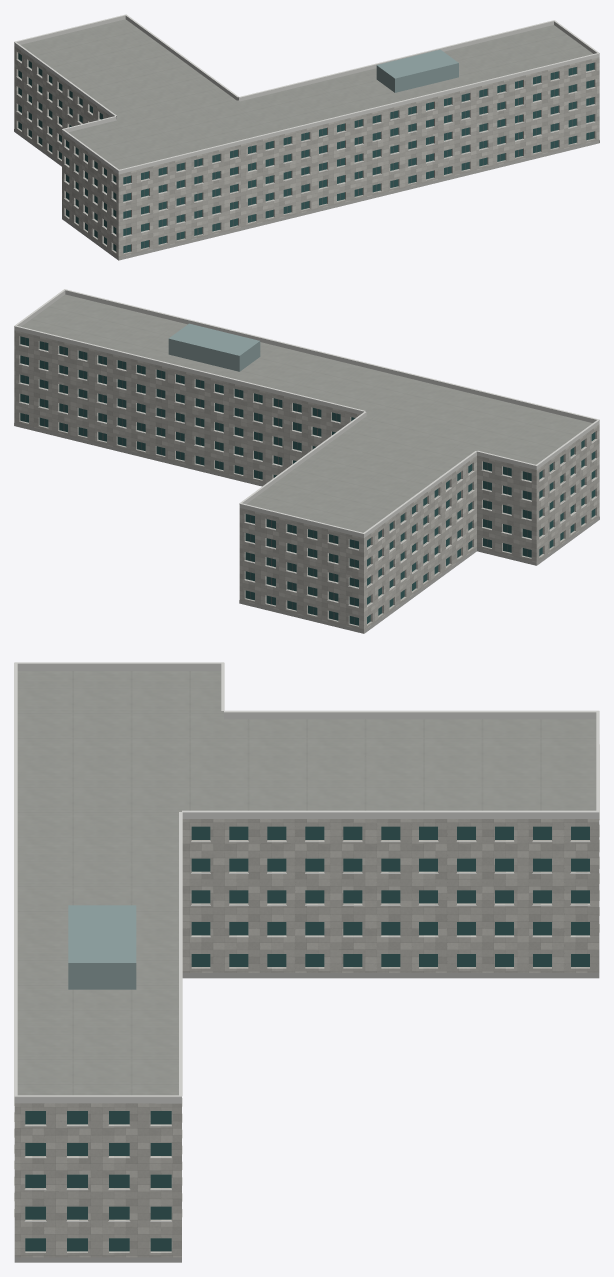
3 renders of one model, top to bottom at view 1: azimuth 30°, elevation 25°; view 2: azimuth 150°, elevation 25°; view 3: azimuth 270°, elevation 25°, orthographic. The views are drawn at different scales.
Visible parts, largest first — view 1: lifeScienceWest__wall, lifeScienceWest__roof, lifeScienceWest__glass, lifeScienceWest__parapet, lifeScienceWest__trim, lifeScienceWest__roofGlass, lifeScienceWest__base, lifeScienceWest__frame; view 2: lifeScienceWest__wall, lifeScienceWest__roof, lifeScienceWest__glass, lifeScienceWest__parapet, lifeScienceWest__trim, lifeScienceWest__roofGlass, lifeScienceWest__base, lifeScienceWest__frame; view 3: lifeScienceWest__roof, lifeScienceWest__wall, lifeScienceWest__glass, lifeScienceWest__trim, lifeScienceWest__parapet, lifeScienceWest__roofGlass, lifeScienceWest__base.
Part boxes in pixels (<box>): lifeScienceWest__wall: <box>14,46,599,260</box>; lifeScienceWest__roof: <box>21,19,592,169</box>; lifeScienceWest__glass: <box>18,53,594,253</box>; lifeScienceWest__parapet: <box>14,15,599,174</box>; lifeScienceWest__trim: <box>14,14,599,237</box>; lifeScienceWest__roofGlass: <box>376,49,458,92</box>; lifeScienceWest__base: <box>14,129,599,260</box>; lifeScienceWest__frame: <box>126,64,589,252</box>; lifeScienceWest__wall: <box>14,330,599,633</box>; lifeScienceWest__roof: <box>21,294,592,532</box>; lifeScienceWest__glass: <box>20,336,595,625</box>; lifeScienceWest__parapet: <box>14,290,599,537</box>; lifeScienceWest__trim: <box>14,289,599,608</box>; lifeScienceWest__roofGlass: <box>168,323,260,371</box>; lifeScienceWest__base: <box>14,423,599,633</box>; lifeScienceWest__frame: <box>25,338,527,624</box>; lifeScienceWest__roof: <box>17,671,596,1095</box>; lifeScienceWest__wall: <box>14,819,599,1257</box>; lifeScienceWest__glass: <box>25,826,589,1251</box>; lifeScienceWest__trim: <box>14,662,599,1221</box>; lifeScienceWest__parapet: <box>14,663,599,1103</box>; lifeScienceWest__roofGlass: <box>68,905,136,989</box>; lifeScienceWest__base: <box>14,973,599,1262</box>.
Bounding box in the file's own units: 105 × 21 × 60.13.
Materials: 8 (2 with a texture image).
